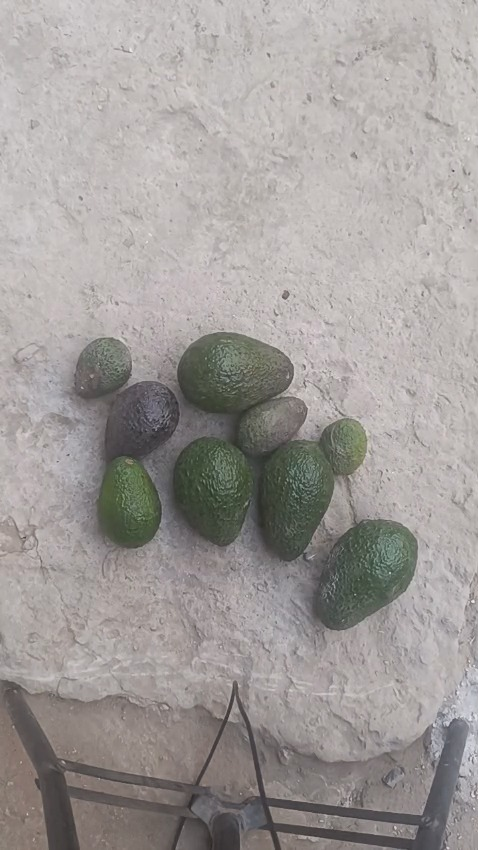Primera: (316, 520, 417, 630), (176, 331, 293, 412), (258, 441, 333, 561), (172, 436, 252, 545)
Segunda: (97, 455, 161, 548), (105, 382, 180, 461)
Tercera: (235, 396, 308, 459), (74, 337, 131, 398), (319, 418, 367, 476)
